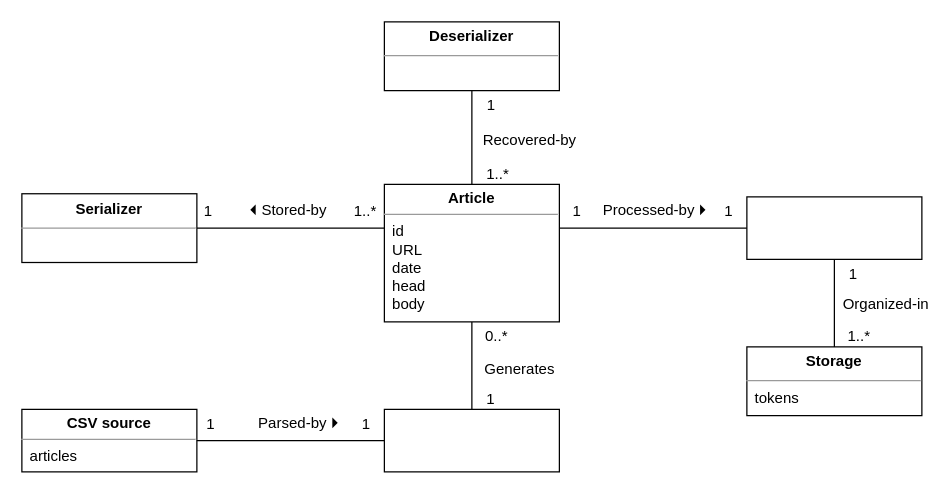
Image size: 950x494. Some labels were removed from this diagram. Here are the shapes that lost their labels. From the top down, the centre of each, then its label:
(834,227): Tokenizer
(471,440): CSV parser articles
